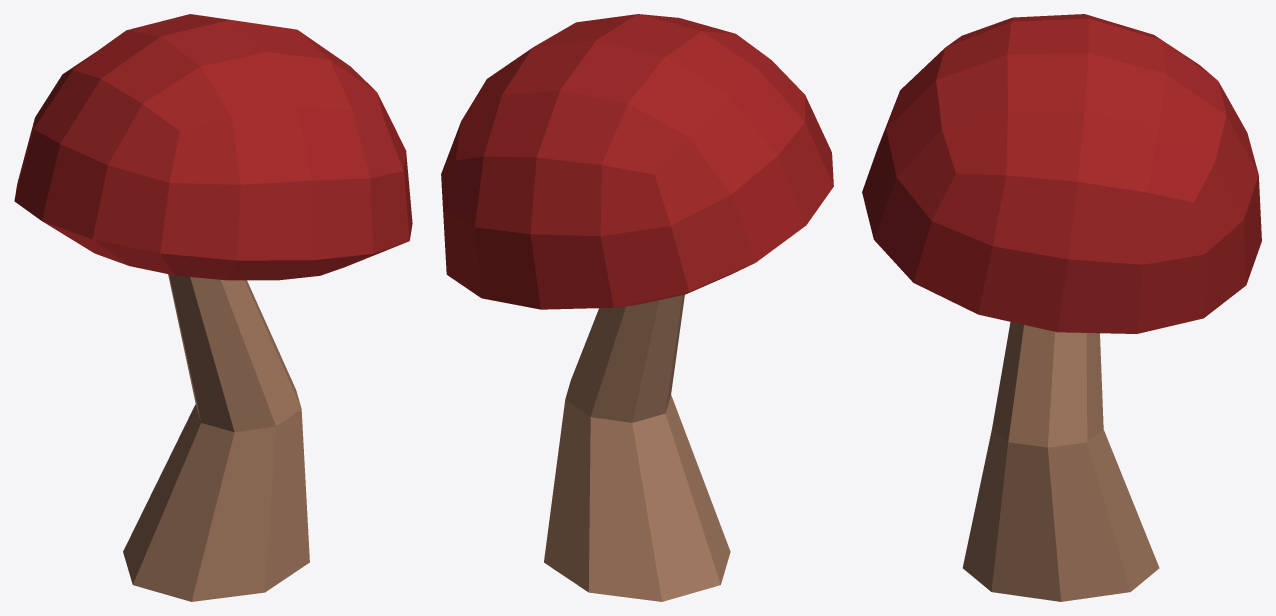
File: mesh_mushroom_03_red.fbx
3 renders of one model, left to right at view 1: azimuth 30°, elevation 25°; view 2: azimuth 150°, elevation 25°; view 3: azimuth 270°, elevation 25°, orthographic.
Parts seen in each view (by area): view 1: mesh_mushroom_03_red_LOD0; view 2: mesh_mushroom_03_red_LOD0; view 3: mesh_mushroom_03_red_LOD0.
Boxes of the visible parts, left/top/right/bottom form: mesh_mushroom_03_red_LOD0: left=14, top=14, right=412, bottom=601; mesh_mushroom_03_red_LOD0: left=441, top=14, right=833, bottom=601; mesh_mushroom_03_red_LOD0: left=862, top=14, right=1261, bottom=601.
Size of what is drawn, in the model's own units: 0.3075 by 0.4577 by 0.3092.
